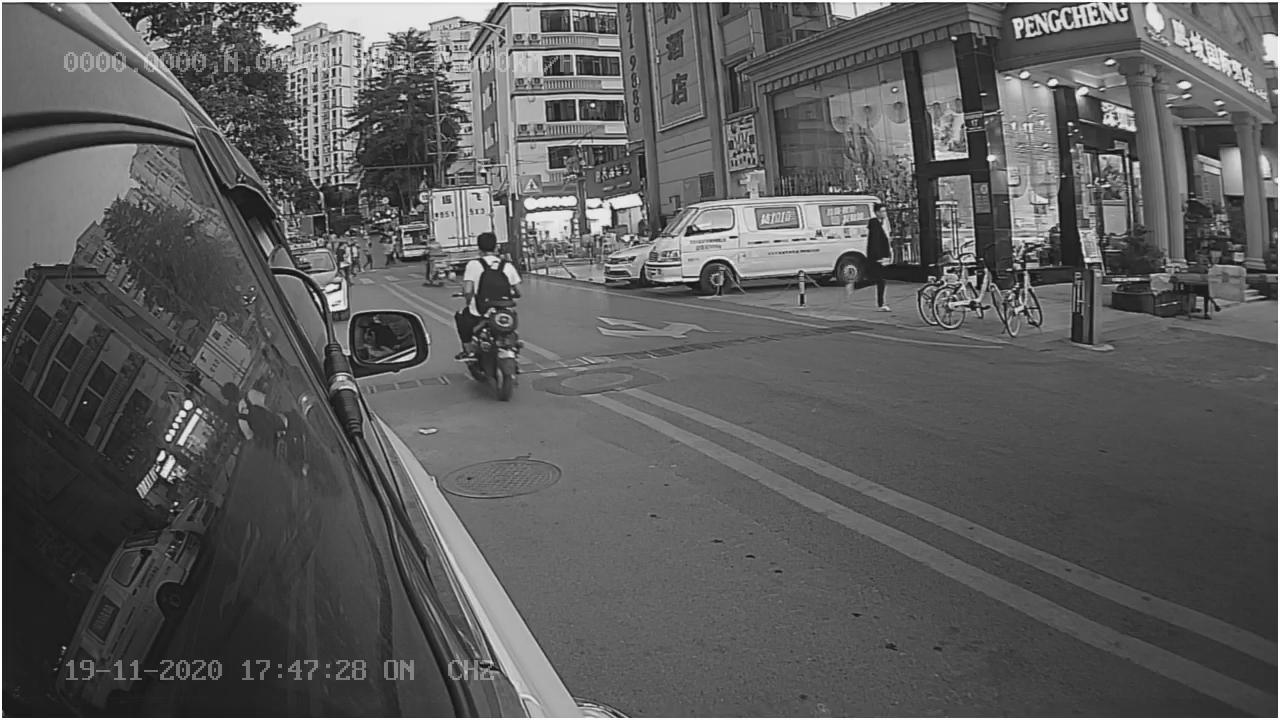person: (454, 236, 524, 313)
